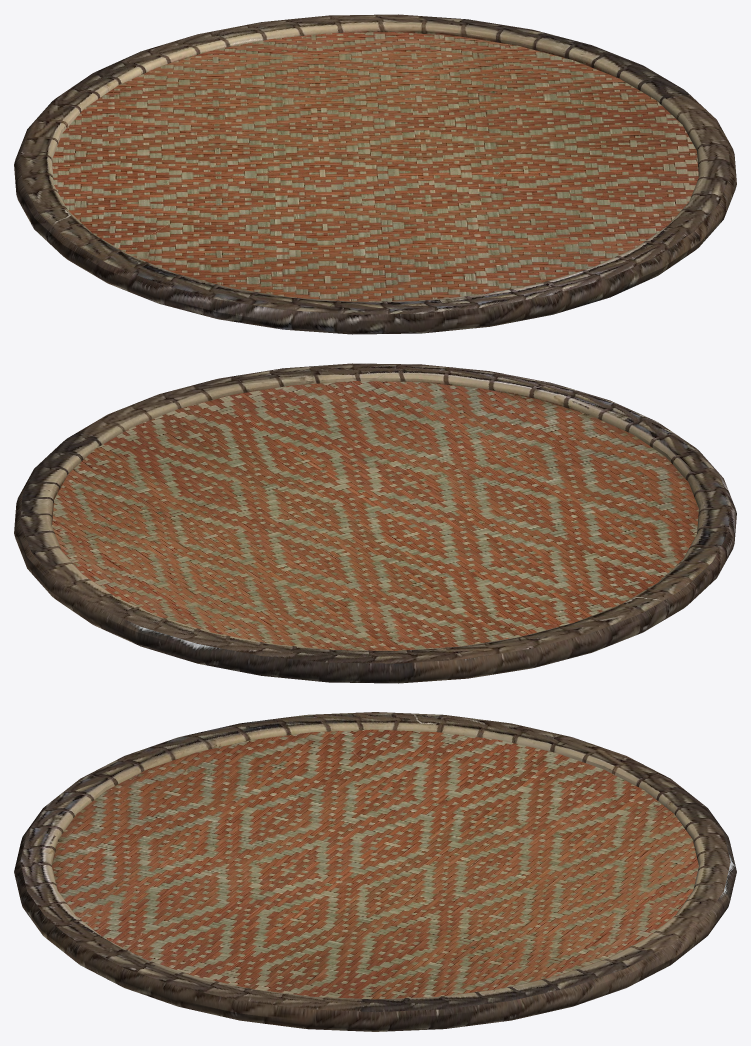
Rendered from placemat.fbx.
3 views of the same model, one above another, from view 1: azimuth 30°, elevation 25°; view 2: azimuth 150°, elevation 25°; view 3: azimuth 270°, elevation 25° (orthographic).
Visible parts, largest first — view 1: SUZILAJ@J-02_Round Placemat; view 2: SUZILAJ@J-02_Round Placemat; view 3: SUZILAJ@J-02_Round Placemat.
Part boxes in pixels (box(x1,y1,x2,y2)): SUZILAJ@J-02_Round Placemat: box(14, 14, 736, 334); SUZILAJ@J-02_Round Placemat: box(14, 363, 736, 683); SUZILAJ@J-02_Round Placemat: box(14, 712, 736, 1031).
Size of the model in its own units: 23.13 by 0.8059 by 23.13.
